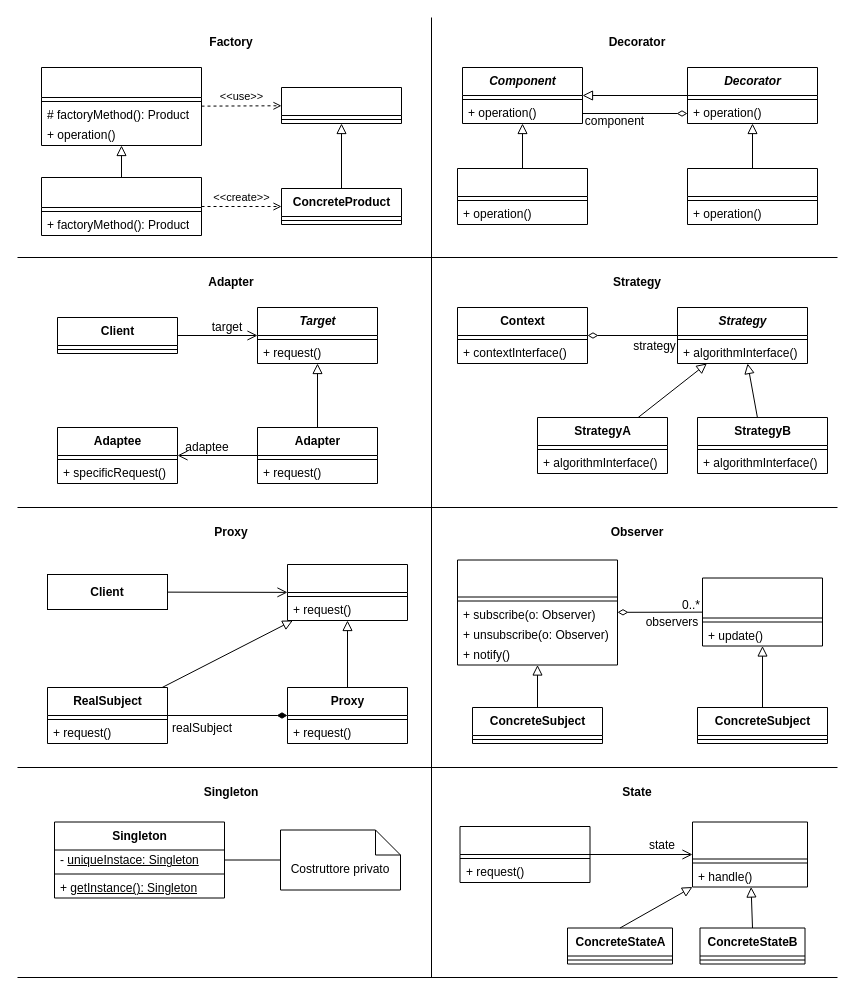
Image size: 856x996. Some labels were removed from this diagram. The shapes that lost their labels are listed below. From the top down, each one's box as (x1, y1, x2, y2) in pixels, then its label:
(40, 66, 202, 146): Creator
(280, 86, 402, 124): Product
(40, 176, 202, 236): ConcreteCreator
(456, 168, 588, 224): ConcreteComponent
(686, 168, 818, 224): ConcreteDecorator
(286, 564, 408, 620): Subject
(456, 559, 618, 665): <<interface>> Subject
(702, 577, 822, 646): <<interface>> Observer
(459, 826, 590, 882): ConcreteState
(692, 821, 808, 887): <<interface>> State
